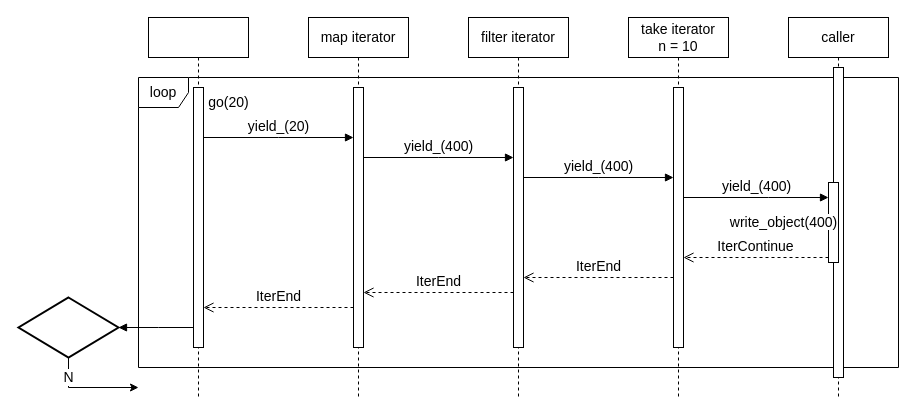
This 916x415 diagram has some shape labels left out. The box of each missing label's shape, as (x1, y1, x2, y2) in pixels:
IterContinue?: (17, 296, 119, 358)
naturals: (148, 16, 248, 398)
